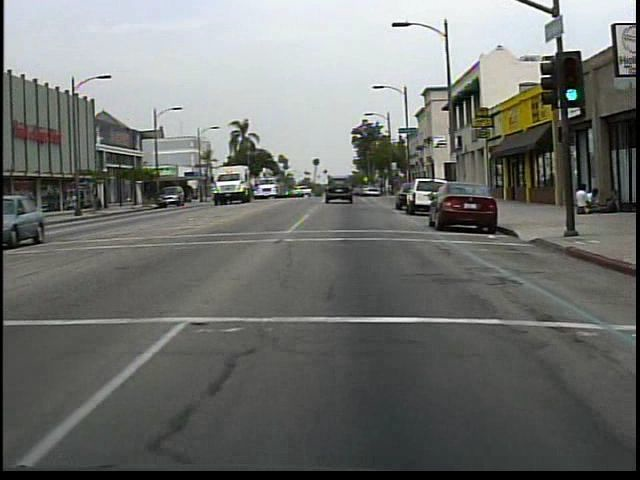person: (570, 182, 589, 216), (93, 191, 104, 212)
